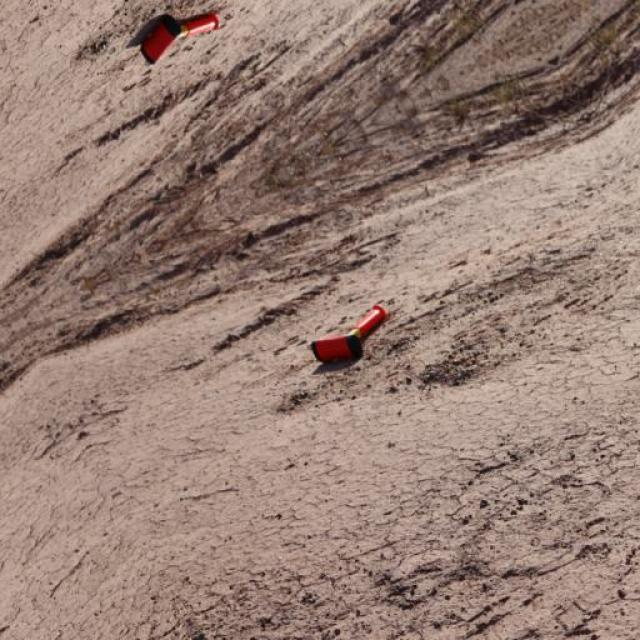mallet: (308, 302, 388, 363), (139, 10, 220, 64)
